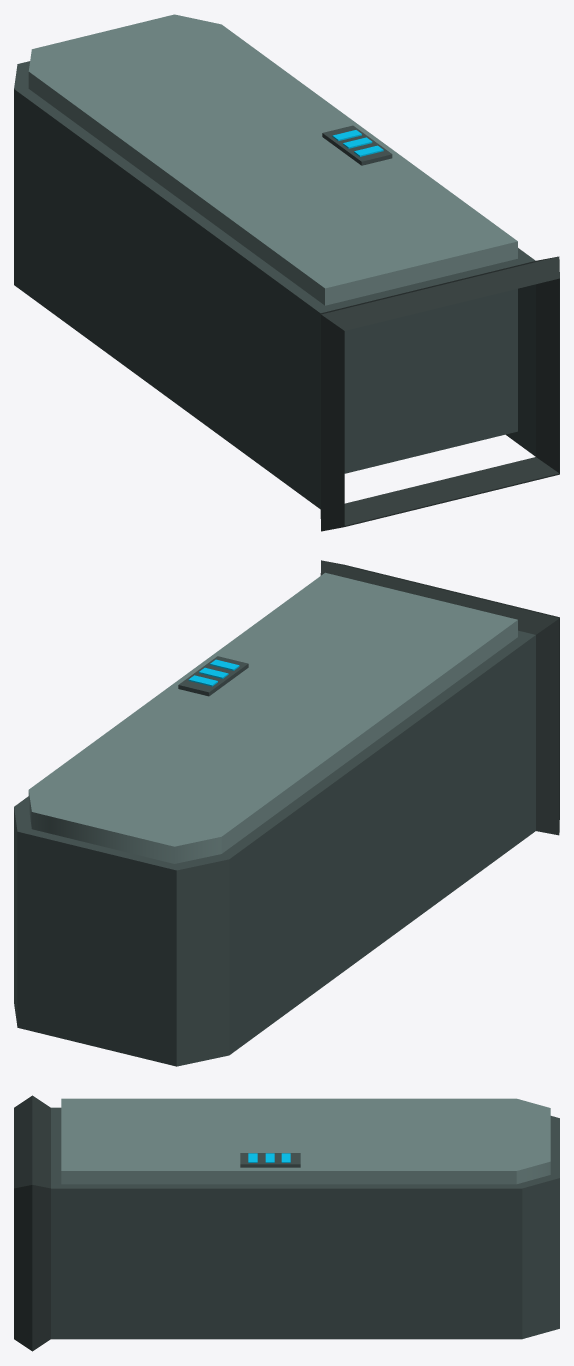
Rendered from Cabinet 02.FBX.
3 views of the same model, one above another, from view 1: azimuth 30°, elevation 25°; view 2: azimuth 150°, elevation 25°; view 3: azimuth 270°, elevation 25° (orthographic). The views are drawn at different scales.
Parts seen in each view (by area): view 1: Cabinet 02, Cabinet 02 Door; view 2: Cabinet 02, Cabinet 02 Door; view 3: Cabinet 02, Cabinet 02 Door.
Boxes of the visible parts, bbox=[...] form: Cabinet 02: bbox=[14, 61, 559, 531]; Cabinet 02 Door: bbox=[28, 14, 517, 305]; Cabinet 02: bbox=[14, 560, 559, 1066]; Cabinet 02 Door: bbox=[28, 572, 517, 863]; Cabinet 02: bbox=[14, 1095, 559, 1351]; Cabinet 02 Door: bbox=[61, 1098, 550, 1184].
Size of the model in its own units: 82.08 by 75.49 by 212.
Materials: 1 (1 with a texture image).
